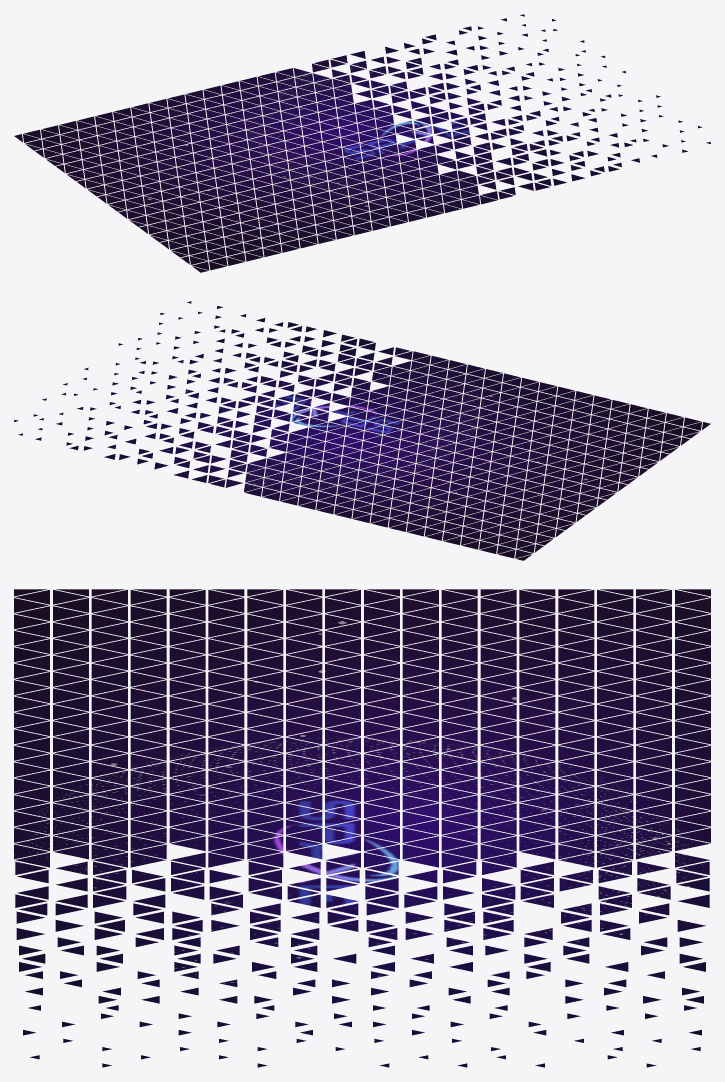
File: M_F_Deco_102_a_16x9.fbx
The picture shows the model from 3 angles, top to bottom: view 1: azimuth 30°, elevation 25°; view 2: azimuth 150°, elevation 25°; view 3: azimuth 270°, elevation 25°; orthographic projection. The views are drawn at different scales.
Visible parts, largest first — view 1: M_F_Deco_102_a_16x9; view 2: M_F_Deco_102_a_16x9; view 3: M_F_Deco_102_a_16x9.
Boxes of the visible parts, x1=… form: M_F_Deco_102_a_16x9: x1=14, y1=14, x2=710, y2=272; M_F_Deco_102_a_16x9: x1=14, y1=301, x2=710, y2=560; M_F_Deco_102_a_16x9: x1=14, y1=589, x2=710, y2=1067.
Bounding box in the file's own units: 14.56 × 1.62e-06 × 8.96.
